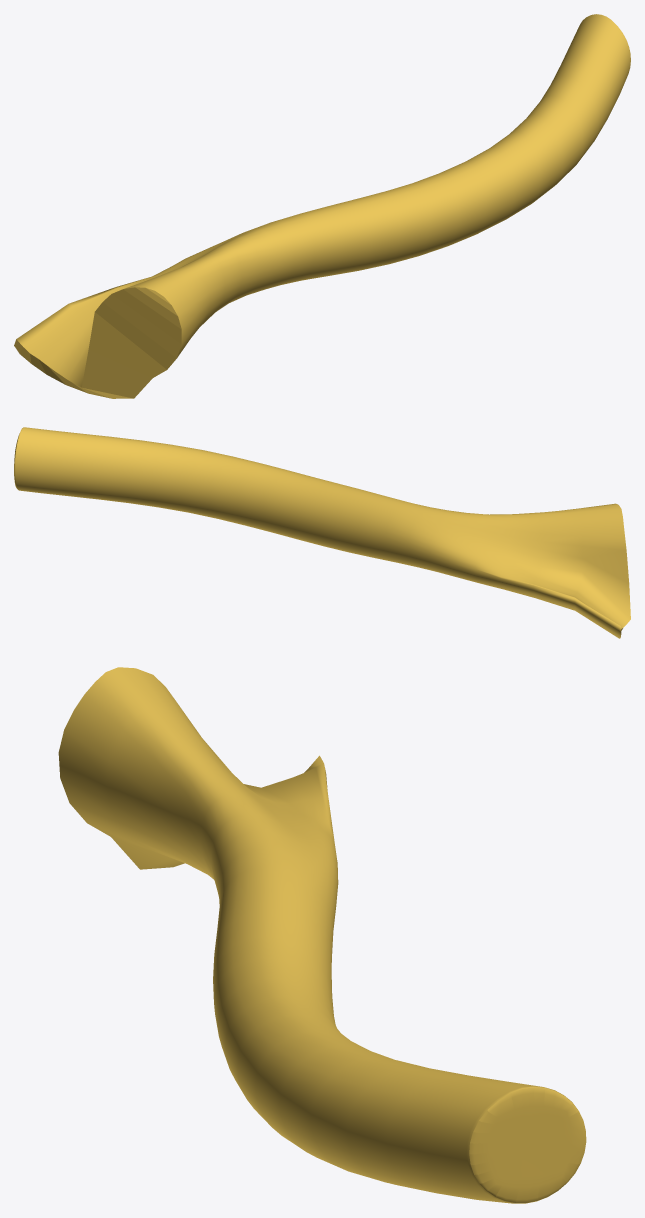
File: Cochlear_nerve_right.glb
The picture shows the model from 3 angles, top to bottom: view 1: azimuth 30°, elevation 25°; view 2: azimuth 150°, elevation 25°; view 3: azimuth 270°, elevation 25°; orthographic projection. The views are drawn at different scales.
Parts seen in each view (by area): view 1: Cochlear_nerve.r_Anatomy_of_the_Inner_Ear_Sketchfab_upload_0; view 2: Cochlear_nerve.r_Anatomy_of_the_Inner_Ear_Sketchfab_upload_0; view 3: Cochlear_nerve.r_Anatomy_of_the_Inner_Ear_Sketchfab_upload_0.
Part boxes in pixels (left/top/right/bottom): Cochlear_nerve.r_Anatomy_of_the_Inner_Ear_Sketchfab_upload_0: left=14, top=14, right=630, bottom=398; Cochlear_nerve.r_Anatomy_of_the_Inner_Ear_Sketchfab_upload_0: left=14, top=427, right=630, bottom=638; Cochlear_nerve.r_Anatomy_of_the_Inner_Ear_Sketchfab_upload_0: left=58, top=667, right=586, bottom=1203.
Bounding box in the file's own units: 0.0217 × 0.00505 × 0.00891.
